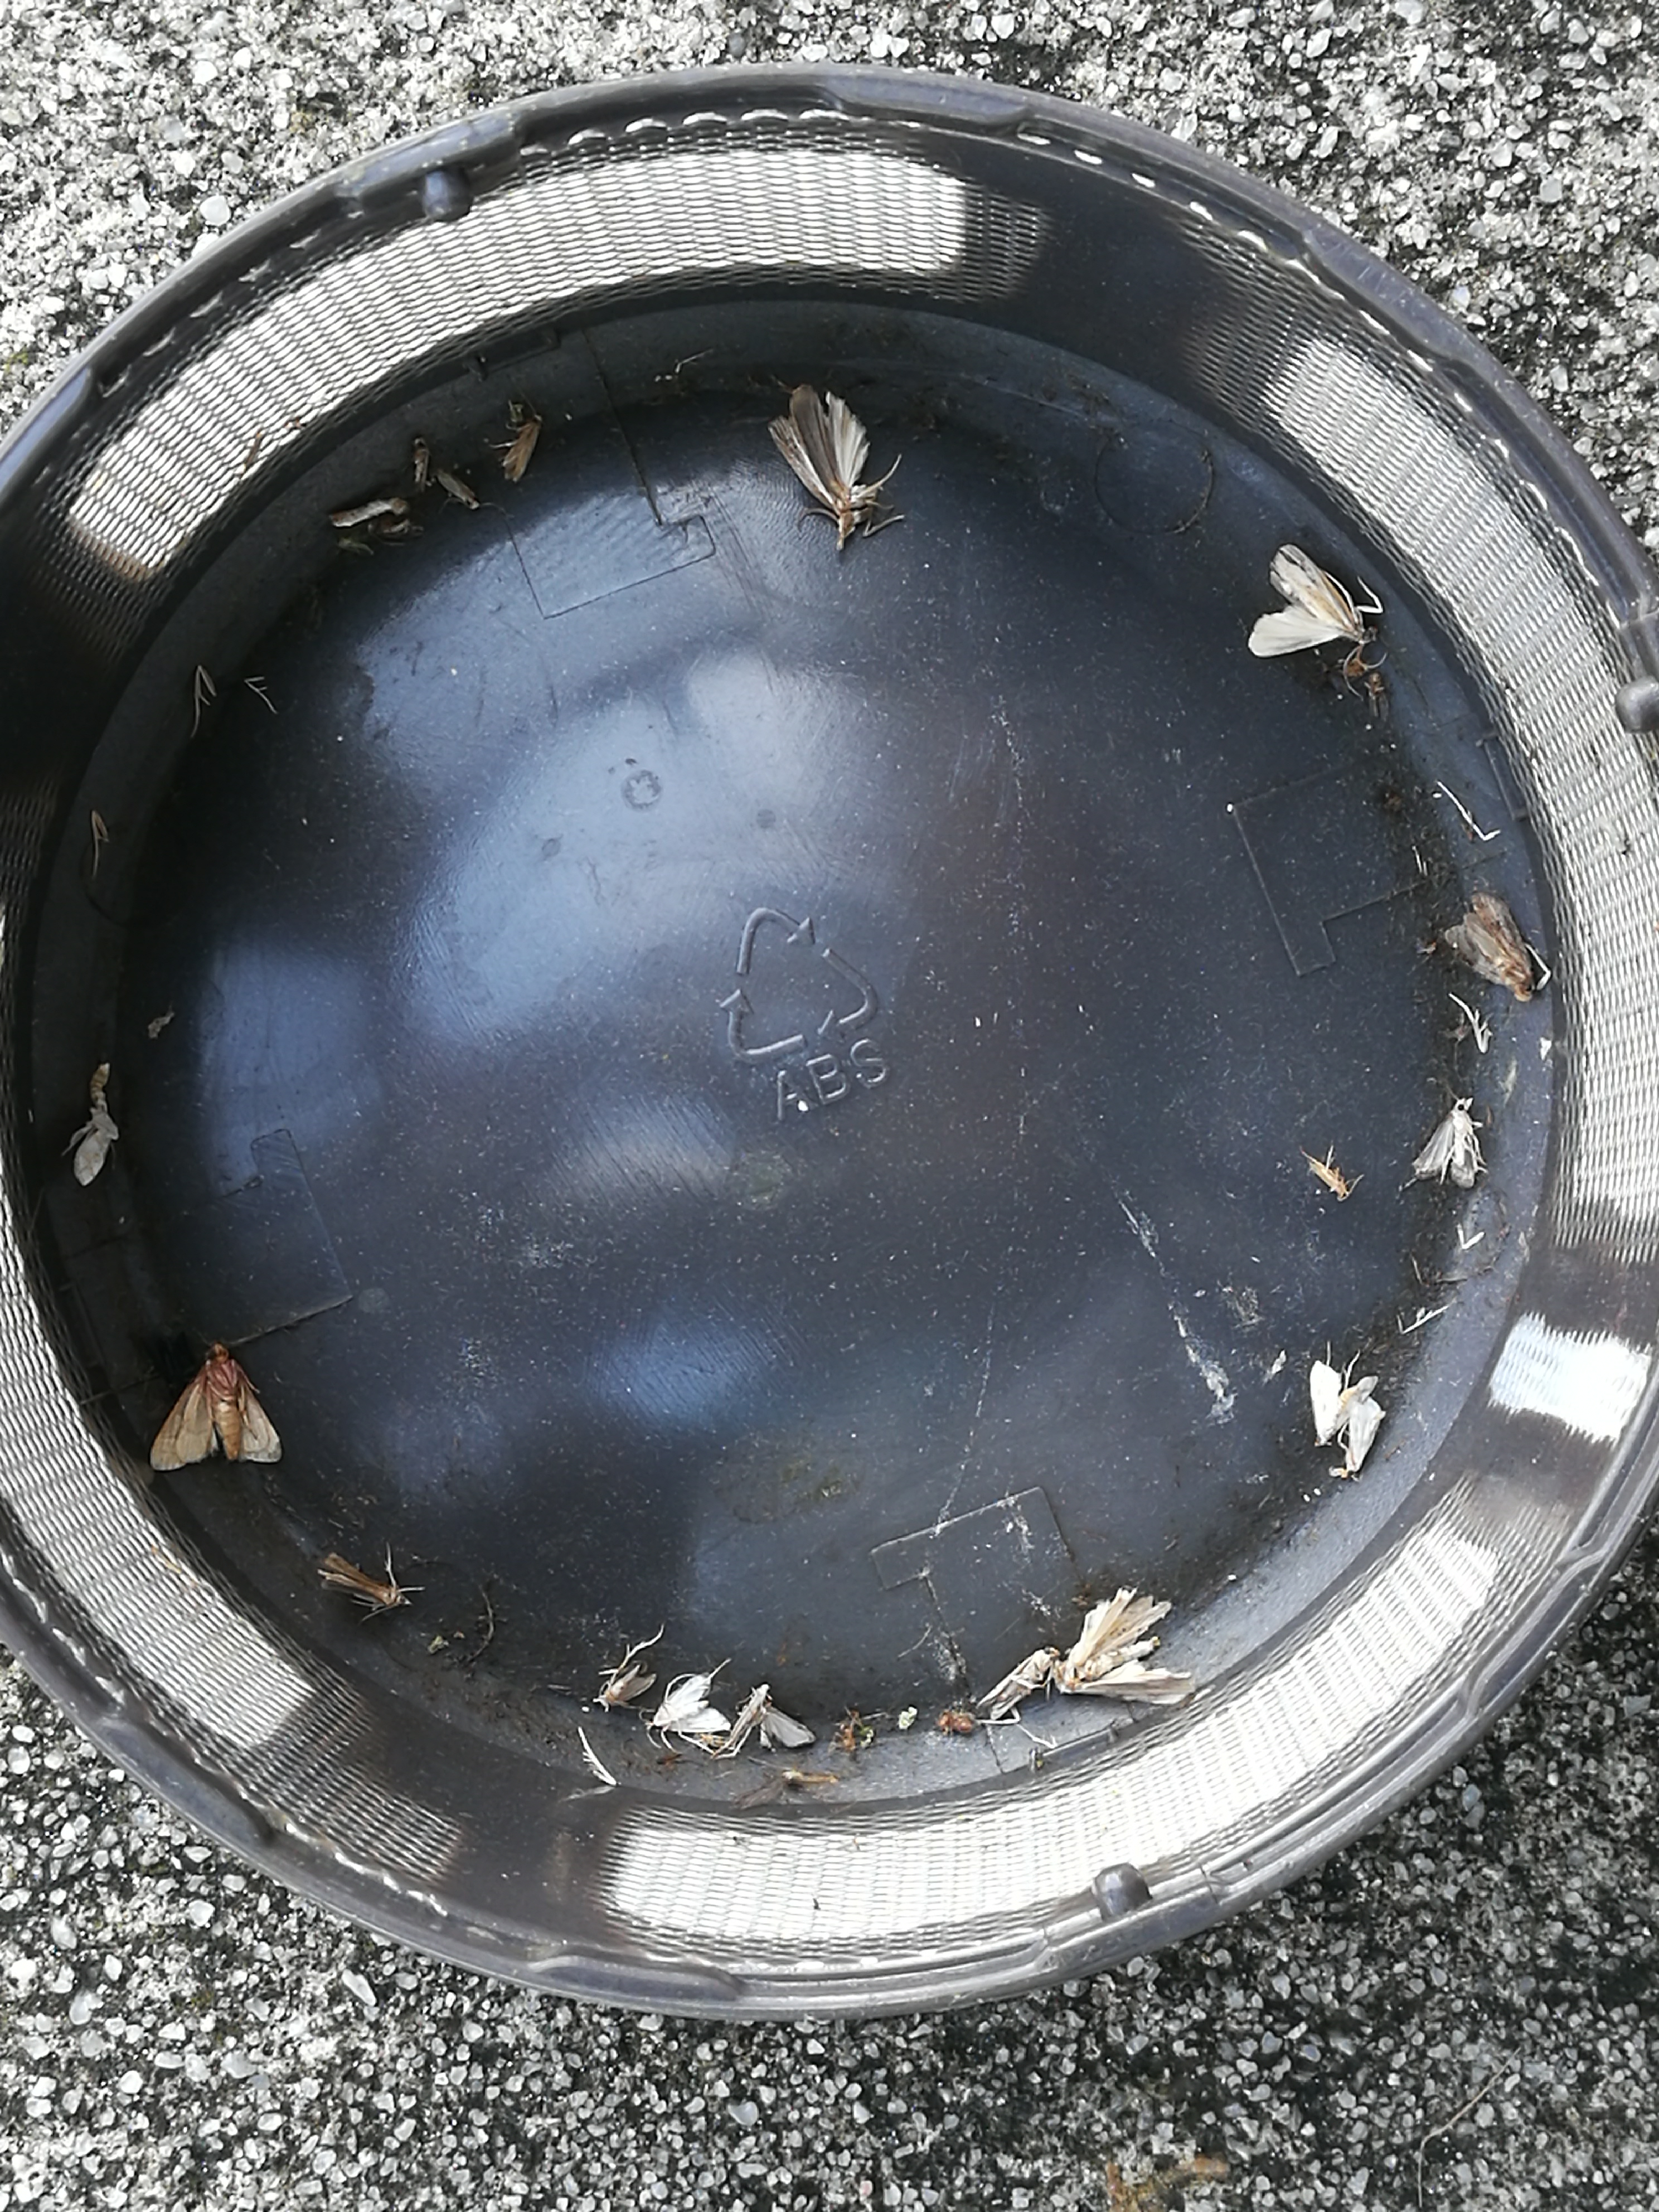mosquito: (978, 1644, 1060, 1719), (317, 1554, 408, 1606), (502, 413, 540, 482), (331, 496, 408, 524), (437, 472, 477, 510), (413, 435, 429, 491)
moth: (769, 385, 875, 550), (150, 1345, 281, 1470), (1058, 1590, 1190, 1705), (1246, 545, 1371, 657), (1445, 894, 1534, 1001), (1412, 1099, 1478, 1188), (1310, 1362, 1377, 1444), (734, 1684, 814, 1747), (650, 1674, 728, 1733), (73, 1108, 119, 1186), (1349, 1399, 1385, 1472)
